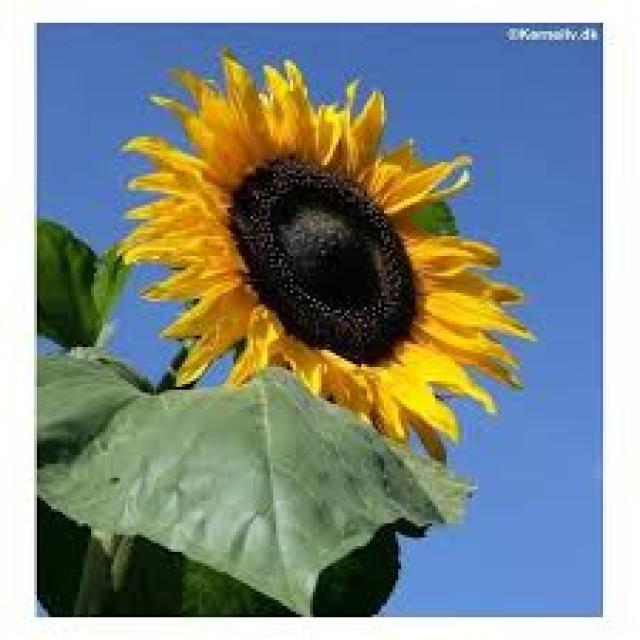sunflower: (102, 36, 547, 480)
